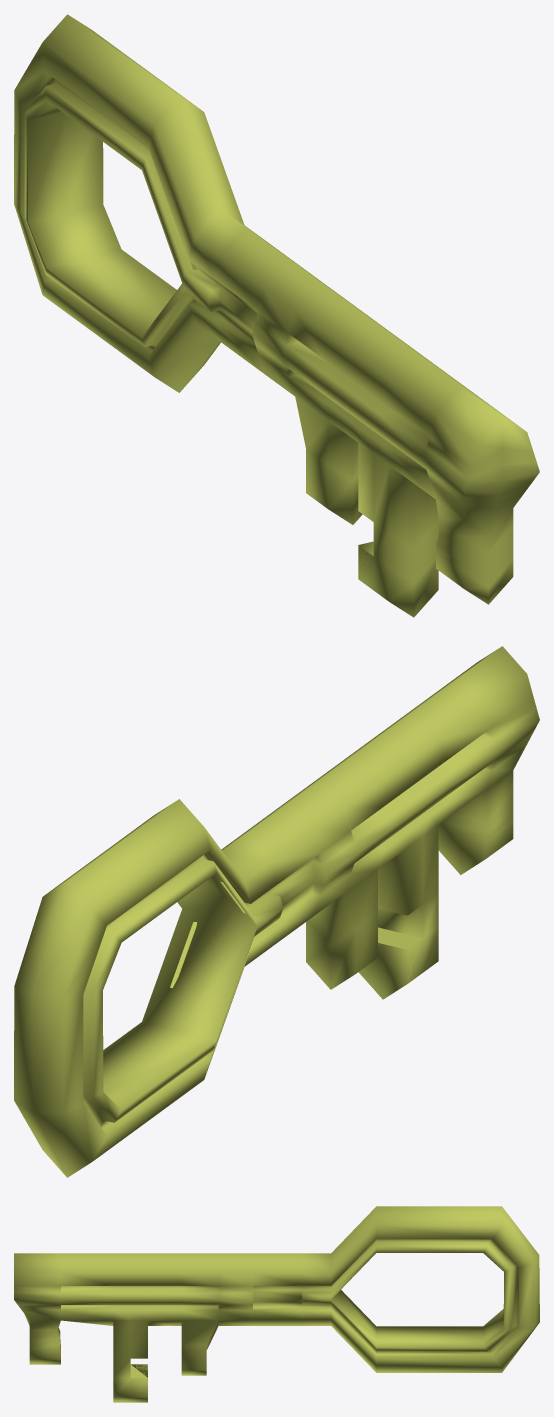
Rendered from Key.fbx.
3 renders of one model, top to bottom at view 1: azimuth 30°, elevation 25°; view 2: azimuth 150°, elevation 25°; view 3: azimuth 270°, elevation 25°, orthographic. The views are drawn at different scales.
Parts seen in each view (by area): view 1: Cube; view 2: Cube; view 3: Cube.
Boxes of the visible parts, x1,y1,x2,y2 form: Cube: (14,14,539,617); Cube: (14,646,539,1177); Cube: (14,1206,539,1402).
Size of the model in its own units: 81.56 by 364 by 884.
